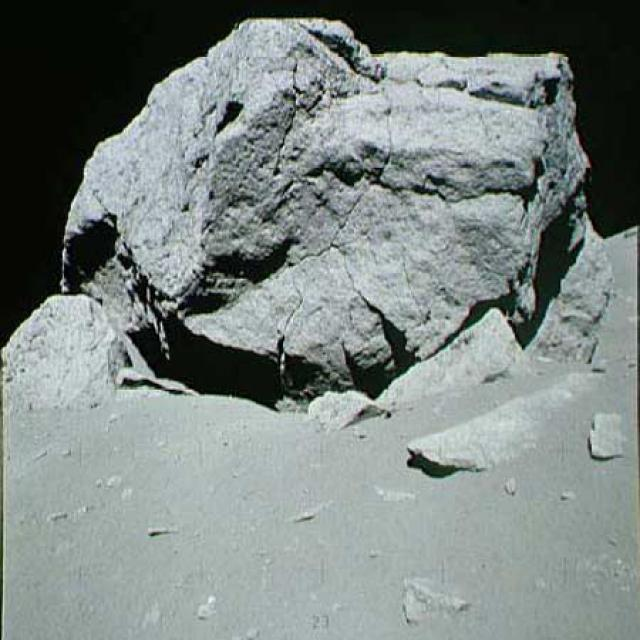rock: (60, 4, 614, 428), (400, 382, 579, 473), (8, 288, 120, 421), (395, 571, 466, 630), (582, 405, 628, 463)
